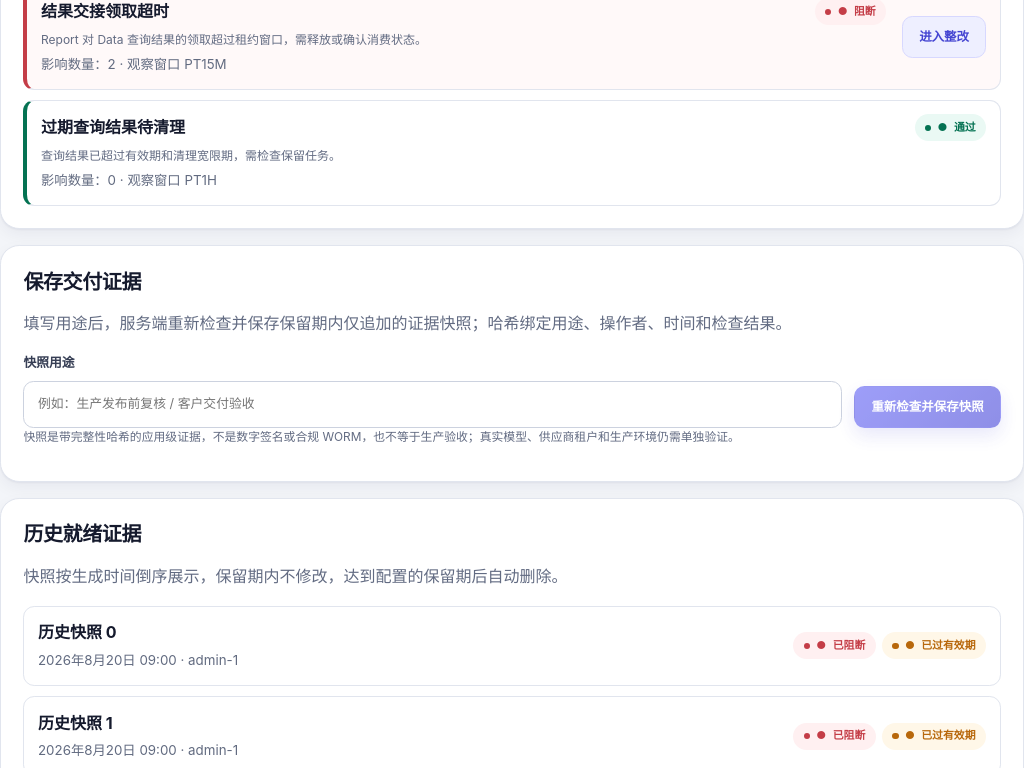
Test case: EnterpriseReadinessPanel › keeps the first history page bounded to twenty snapshots after creation
(page scrolled)
Type "生产前复核" into the field labelled "快照用途" at (432, 405), box x1=23 y1=382 x2=842 y2=428
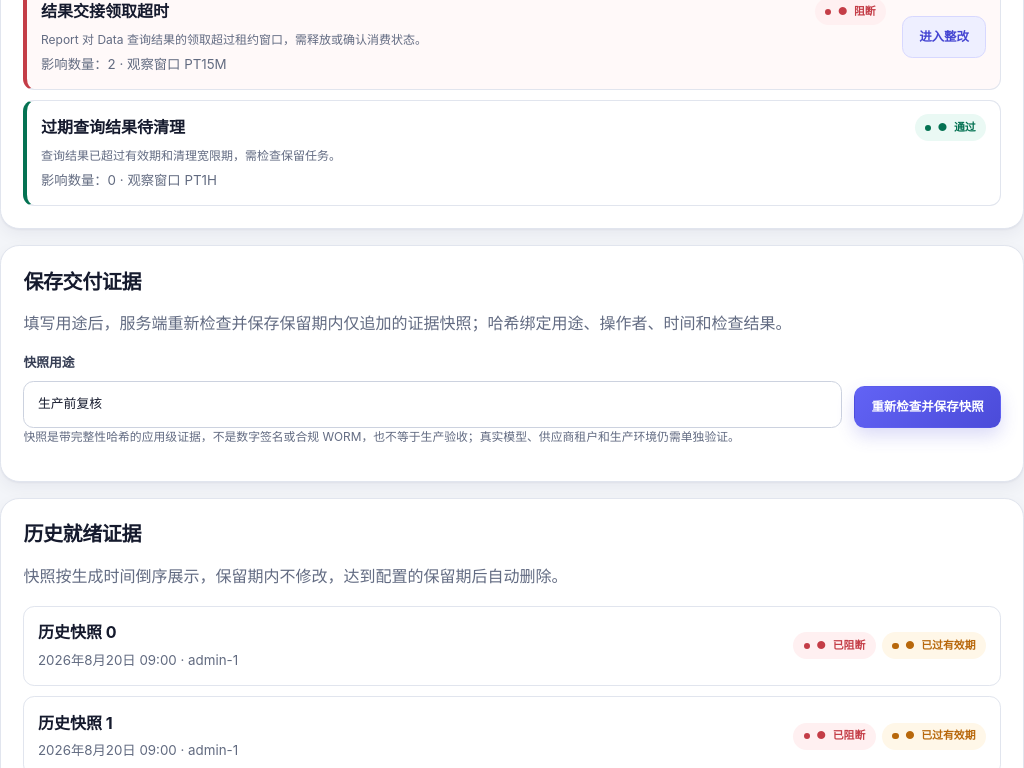
Submit the form, box x1=23 y1=353 x2=1001 y2=428
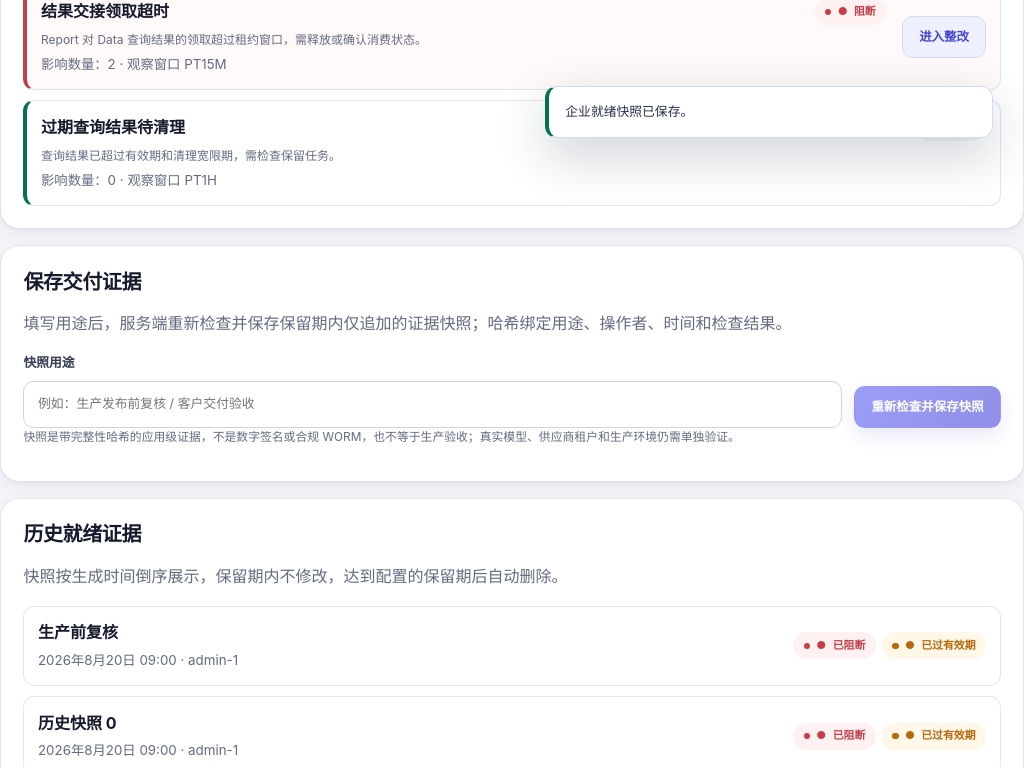
Now the text "生产前复核" is shown, box x1=38 y1=622 x2=118 y2=642
